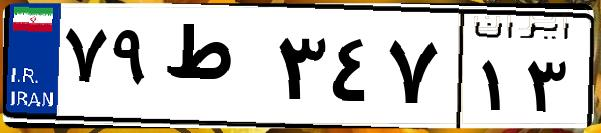1: (475, 38, 525, 113)
3: (270, 28, 330, 110), (525, 38, 570, 115)
4: (330, 28, 385, 110)
7: (385, 28, 445, 110), (57, 26, 110, 100)
9: (110, 28, 158, 98)
ط: (158, 20, 270, 120)
